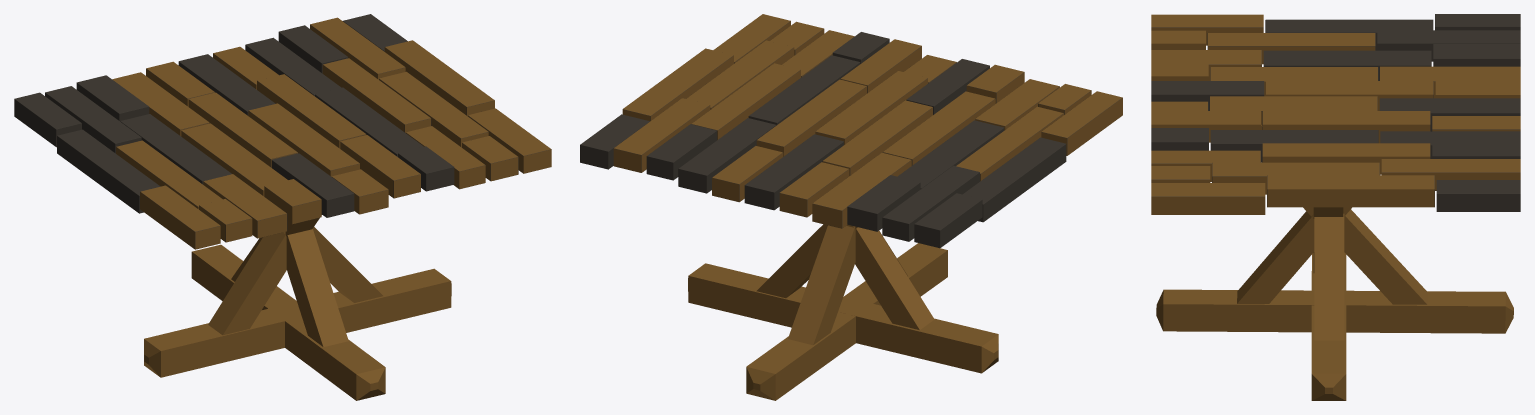
Rendered from table_square.fbx.
3 views of the same model, side by side, from view 1: azimuth 30°, elevation 25°; view 2: azimuth 150°, elevation 25°; view 3: azimuth 270°, elevation 25° (orthographic). The views are drawn at different scales.
Parts seen in each view (by area): view 1: Plancher, Cube.001, Cube.006, Cube.005, Cube.003, Cube.004, Cube.002; view 2: Plancher, Cube.001, Cube.006, Cube.002, Cube.003, Cube.004; view 3: Plancher, Cube.006, Cube.004, Cube.002, Cube.005, Cube.001, Cube.003.
Part boxes in pixels (x1,y1,x2,y2): Plancher: (14, 14, 551, 249); Cube.001: (144, 268, 451, 377); Cube.006: (191, 244, 385, 400); Cube.005: (286, 229, 348, 346); Cube.003: (208, 227, 313, 335); Cube.004: (283, 227, 382, 302); Cube.002: (231, 214, 321, 281); Plancher: (580, 14, 1122, 248); Cube.001: (688, 263, 998, 373); Cube.006: (746, 243, 947, 400); Cube.002: (788, 225, 855, 345); Cube.003: (855, 227, 934, 329); Cube.004: (756, 224, 857, 298); Plancher: (1151, 14, 1520, 214); Cube.006: (1156, 289, 1513, 333); Cube.004: (1314, 213, 1344, 340); Cube.002: (1261, 125, 1427, 304); Cube.005: (1237, 142, 1379, 303); Cube.001: (1311, 252, 1346, 400); Cube.003: (1313, 207, 1343, 272).
Size of the model in its own units: 250 by 147 by 220.
